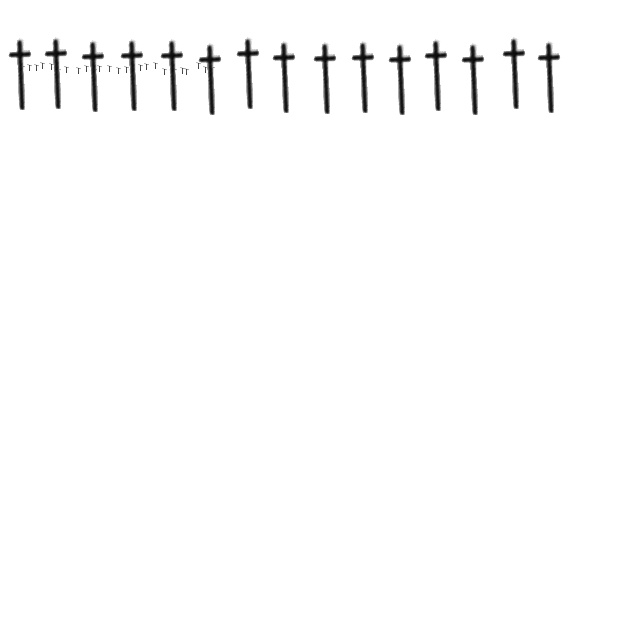enseble_chain: (36, 37, 80, 111), (112, 39, 156, 113), (152, 39, 196, 113), (190, 43, 234, 117), (228, 37, 272, 111), (264, 41, 308, 115), (380, 43, 424, 117), (416, 39, 460, 113), (494, 37, 538, 111), (0, 38, 42, 112), (74, 40, 116, 114), (306, 42, 348, 116), (344, 41, 386, 115), (454, 43, 496, 117), (530, 41, 572, 115), (34, 64, 40, 72), (40, 62, 46, 70), (56, 68, 62, 76), (64, 66, 70, 74), (92, 68, 98, 76), (124, 66, 130, 74), (130, 68, 136, 76), (138, 64, 144, 72), (162, 68, 168, 76), (172, 68, 178, 76), (184, 68, 190, 76), (196, 62, 202, 70), (210, 66, 216, 74), (20, 66, 26, 72), (76, 68, 82, 74), (84, 66, 90, 72), (116, 68, 122, 74), (144, 64, 150, 70), (180, 68, 186, 74), (28, 64, 32, 72), (154, 62, 158, 70), (204, 66, 208, 74), (50, 64, 54, 70), (98, 66, 102, 72), (108, 66, 112, 72)
